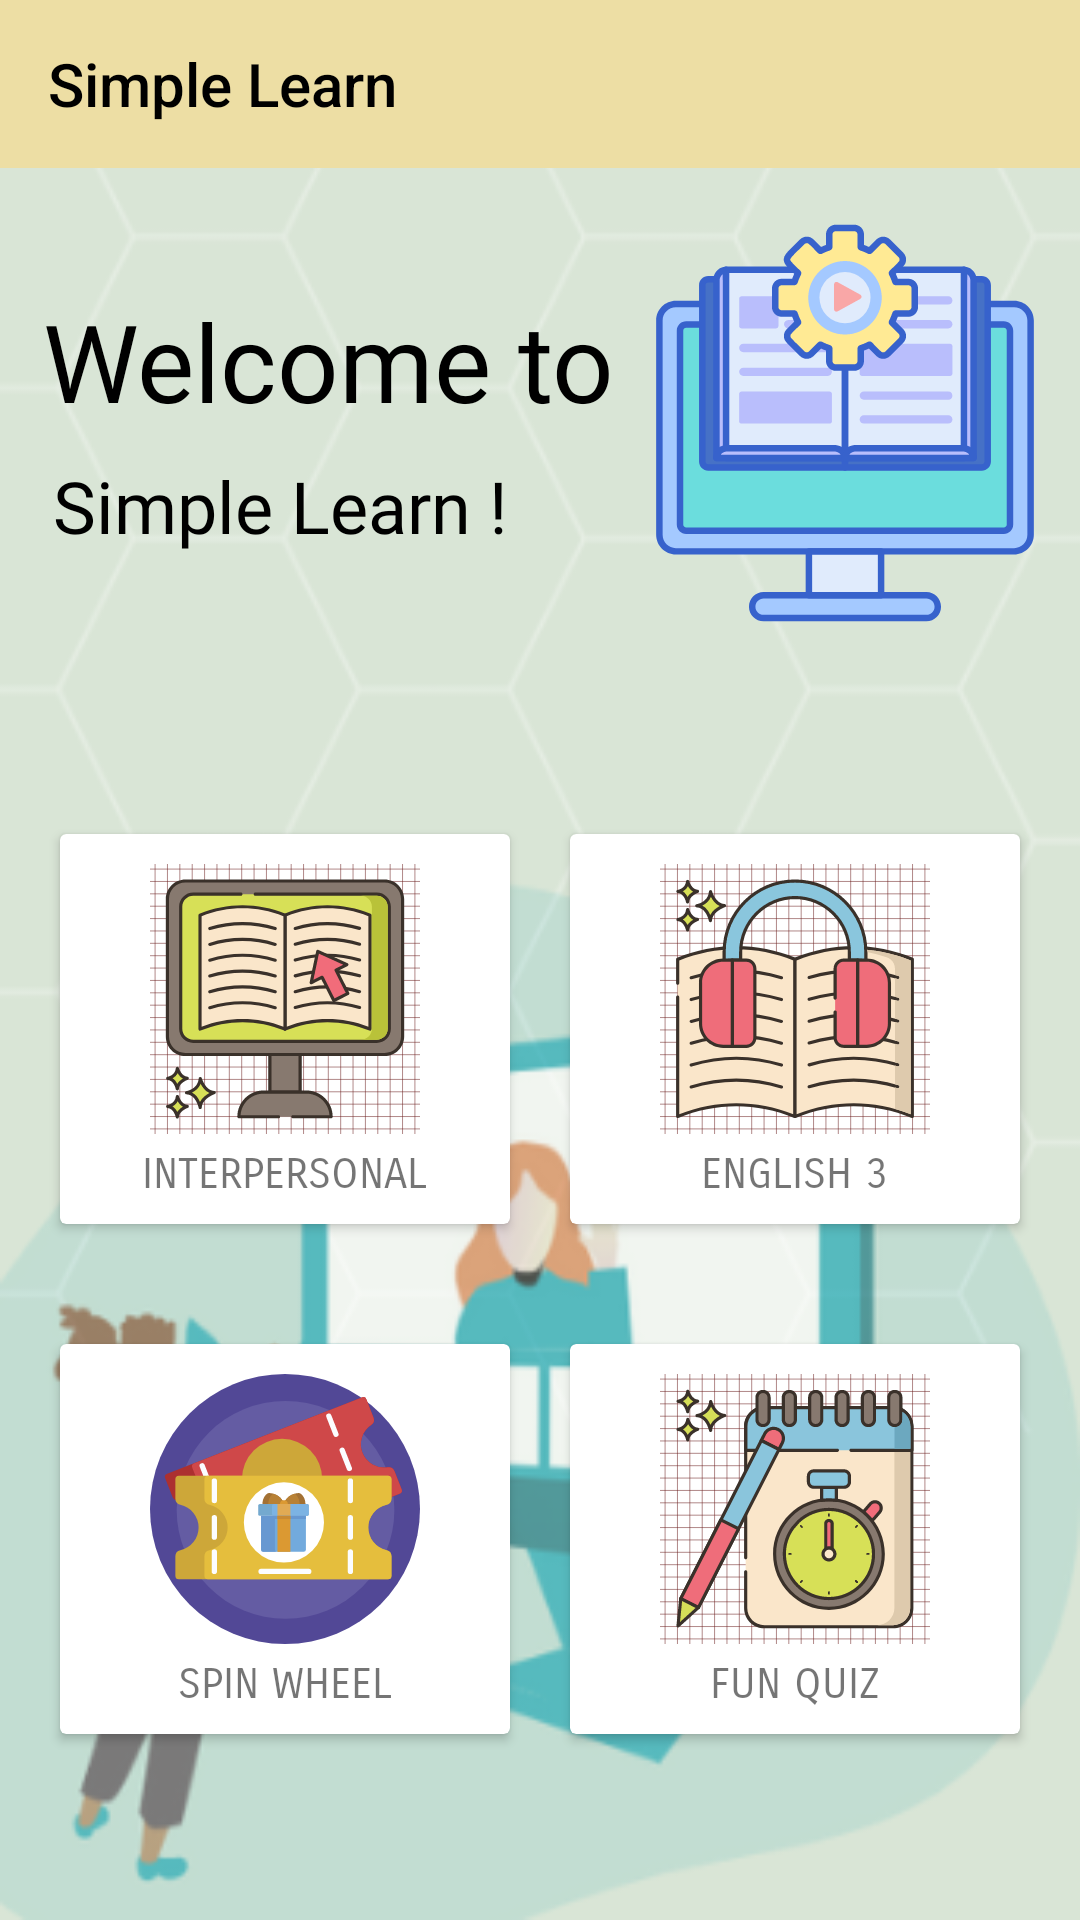

Icon bounding boxes for this 1080x1920 phone screenshot, format (x1, y1, x2, y2):
bookeng: (660, 864, 930, 1134)
bookind: (150, 864, 420, 1134)
